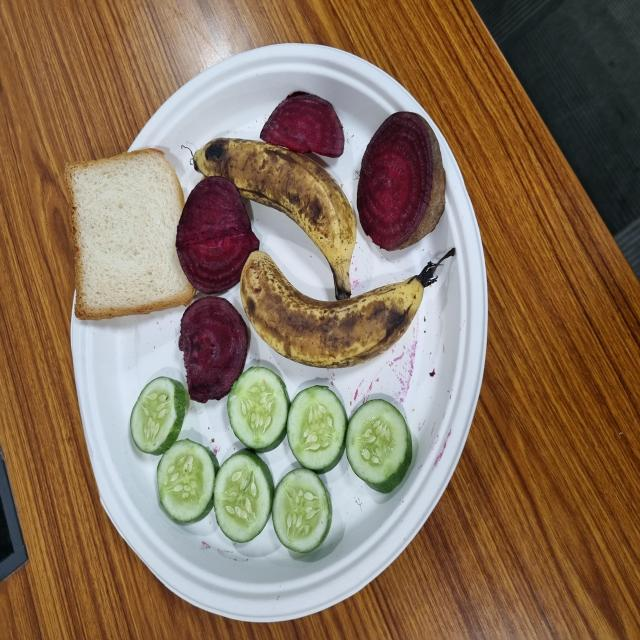banana: (257, 262, 377, 479), (201, 319, 293, 574)
cucumber: (108, 464, 182, 552), (72, 287, 143, 368), (124, 384, 194, 466), (86, 208, 151, 296), (141, 304, 207, 390), (63, 364, 131, 446), (137, 172, 200, 255)
